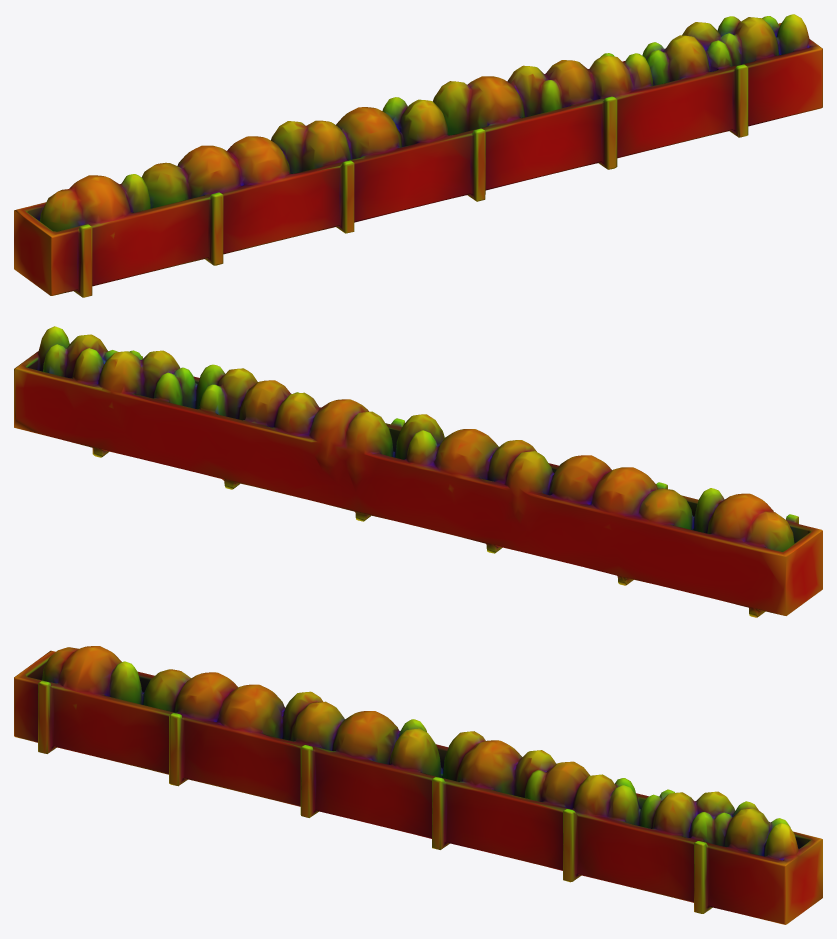
Rendered from PlanterBox.fbx.
The picture shows the model from 3 angles, top to bottom: view 1: azimuth 30°, elevation 25°; view 2: azimuth 150°, elevation 25°; view 3: azimuth 330°, elevation 25°; orthographic projection.
Parts seen in each view (by area): view 1: transform1; view 2: transform1; view 3: transform1.
Part boxes in pixels (box(x1,y1,x2,y2)): transform1: box(14, 14, 822, 297); transform1: box(14, 326, 822, 617); transform1: box(14, 646, 822, 924).
Size of the model in its own units: 403 by 38.57 by 49.71.
